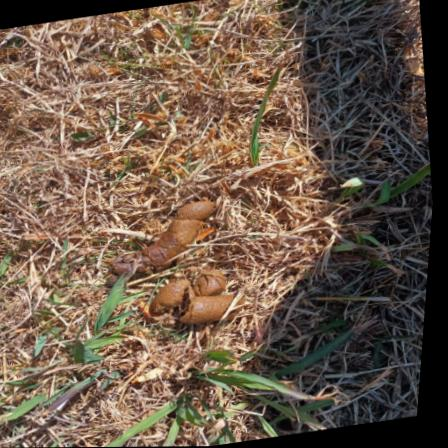dog-poop: (89, 180, 268, 350)
